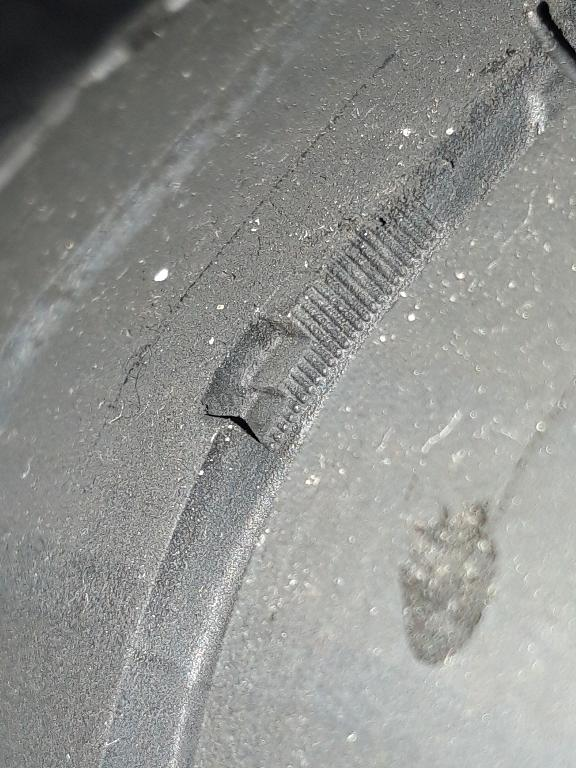temoin:50: (182, 259, 382, 477)
